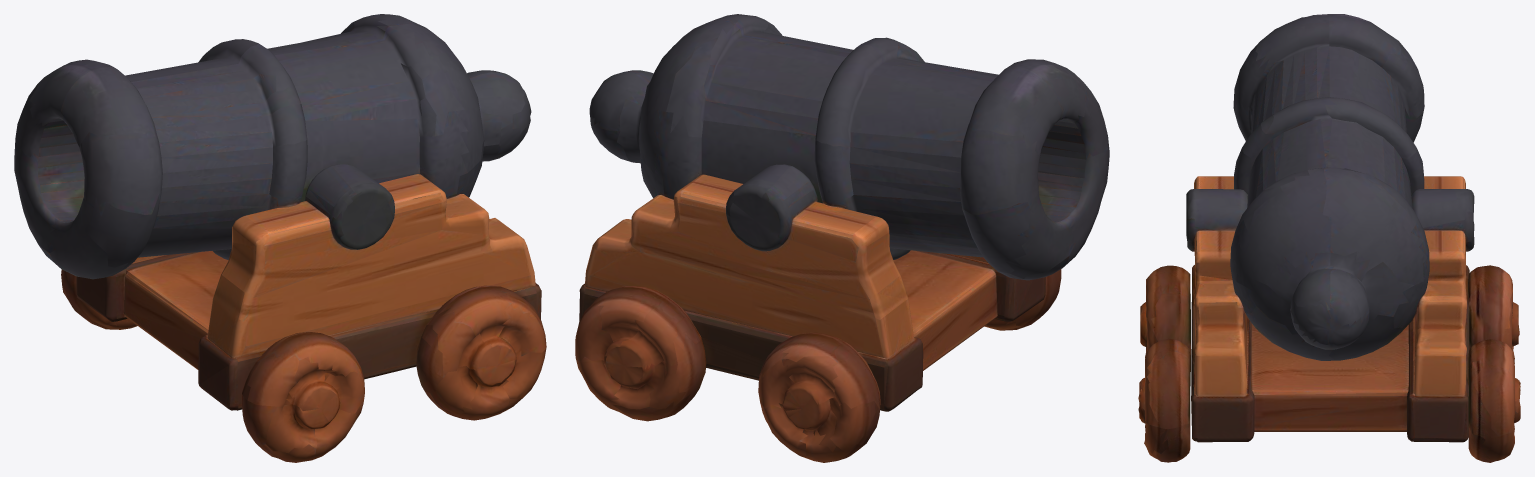
Rendered from la_canon.glb.
3 views of the same model, side by side, from view 1: azimuth 30°, elevation 25°; view 2: azimuth 150°, elevation 25°; view 3: azimuth 270°, elevation 25° (orthographic). The views are drawn at different scales.
Bounding box in the file's own units: 1 × 0.7188 × 0.793.
1 material, 1 textured.
